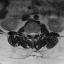CCS_normal: (32, 30, 34, 39)
LFS_normal: (36, 30, 38, 37)
LLS_normal: (34, 30, 36, 38)
RFS_normal: (28, 30, 30, 37)
RLS_normal: (30, 30, 32, 38)
